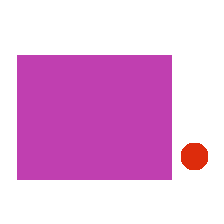circle: (181, 143, 207, 169)
rectangle: (17, 55, 171, 179)
